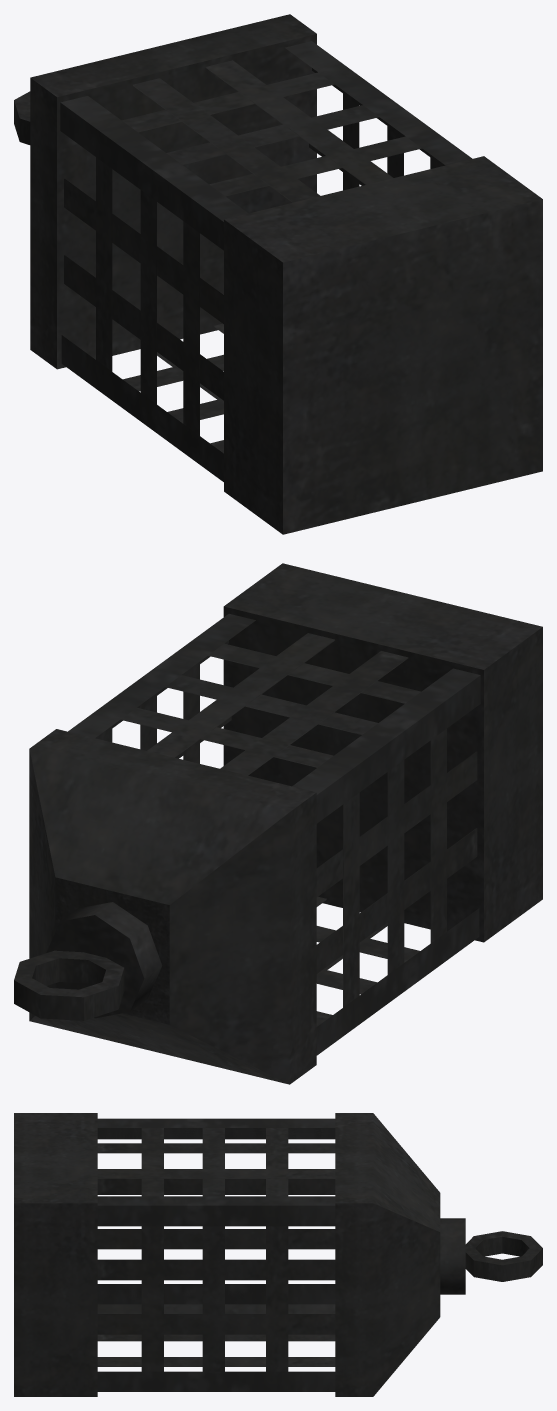
Rendered from Lantern_B.fbx.
3 renders of one model, top to bottom at view 1: azimuth 30°, elevation 25°; view 2: azimuth 150°, elevation 25°; view 3: azimuth 270°, elevation 25°, orthographic. The views are drawn at different scales.
Parts seen in each view (by area): view 1: Lantern_B; view 2: Lantern_B; view 3: Lantern_B.
Boxes of the visible parts, box(x1,y1,x2,y2) form: Lantern_B: box(14, 14, 542, 534); Lantern_B: box(14, 563, 542, 1084); Lantern_B: box(14, 1113, 542, 1396).
Size of the model in its own units: 0.3206 by 0.3207 by 0.7947.
